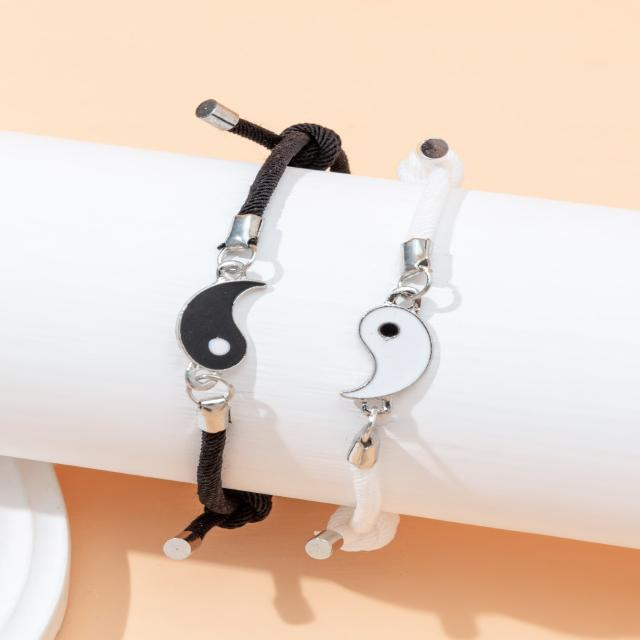bracelet: (77, 71, 569, 607)
